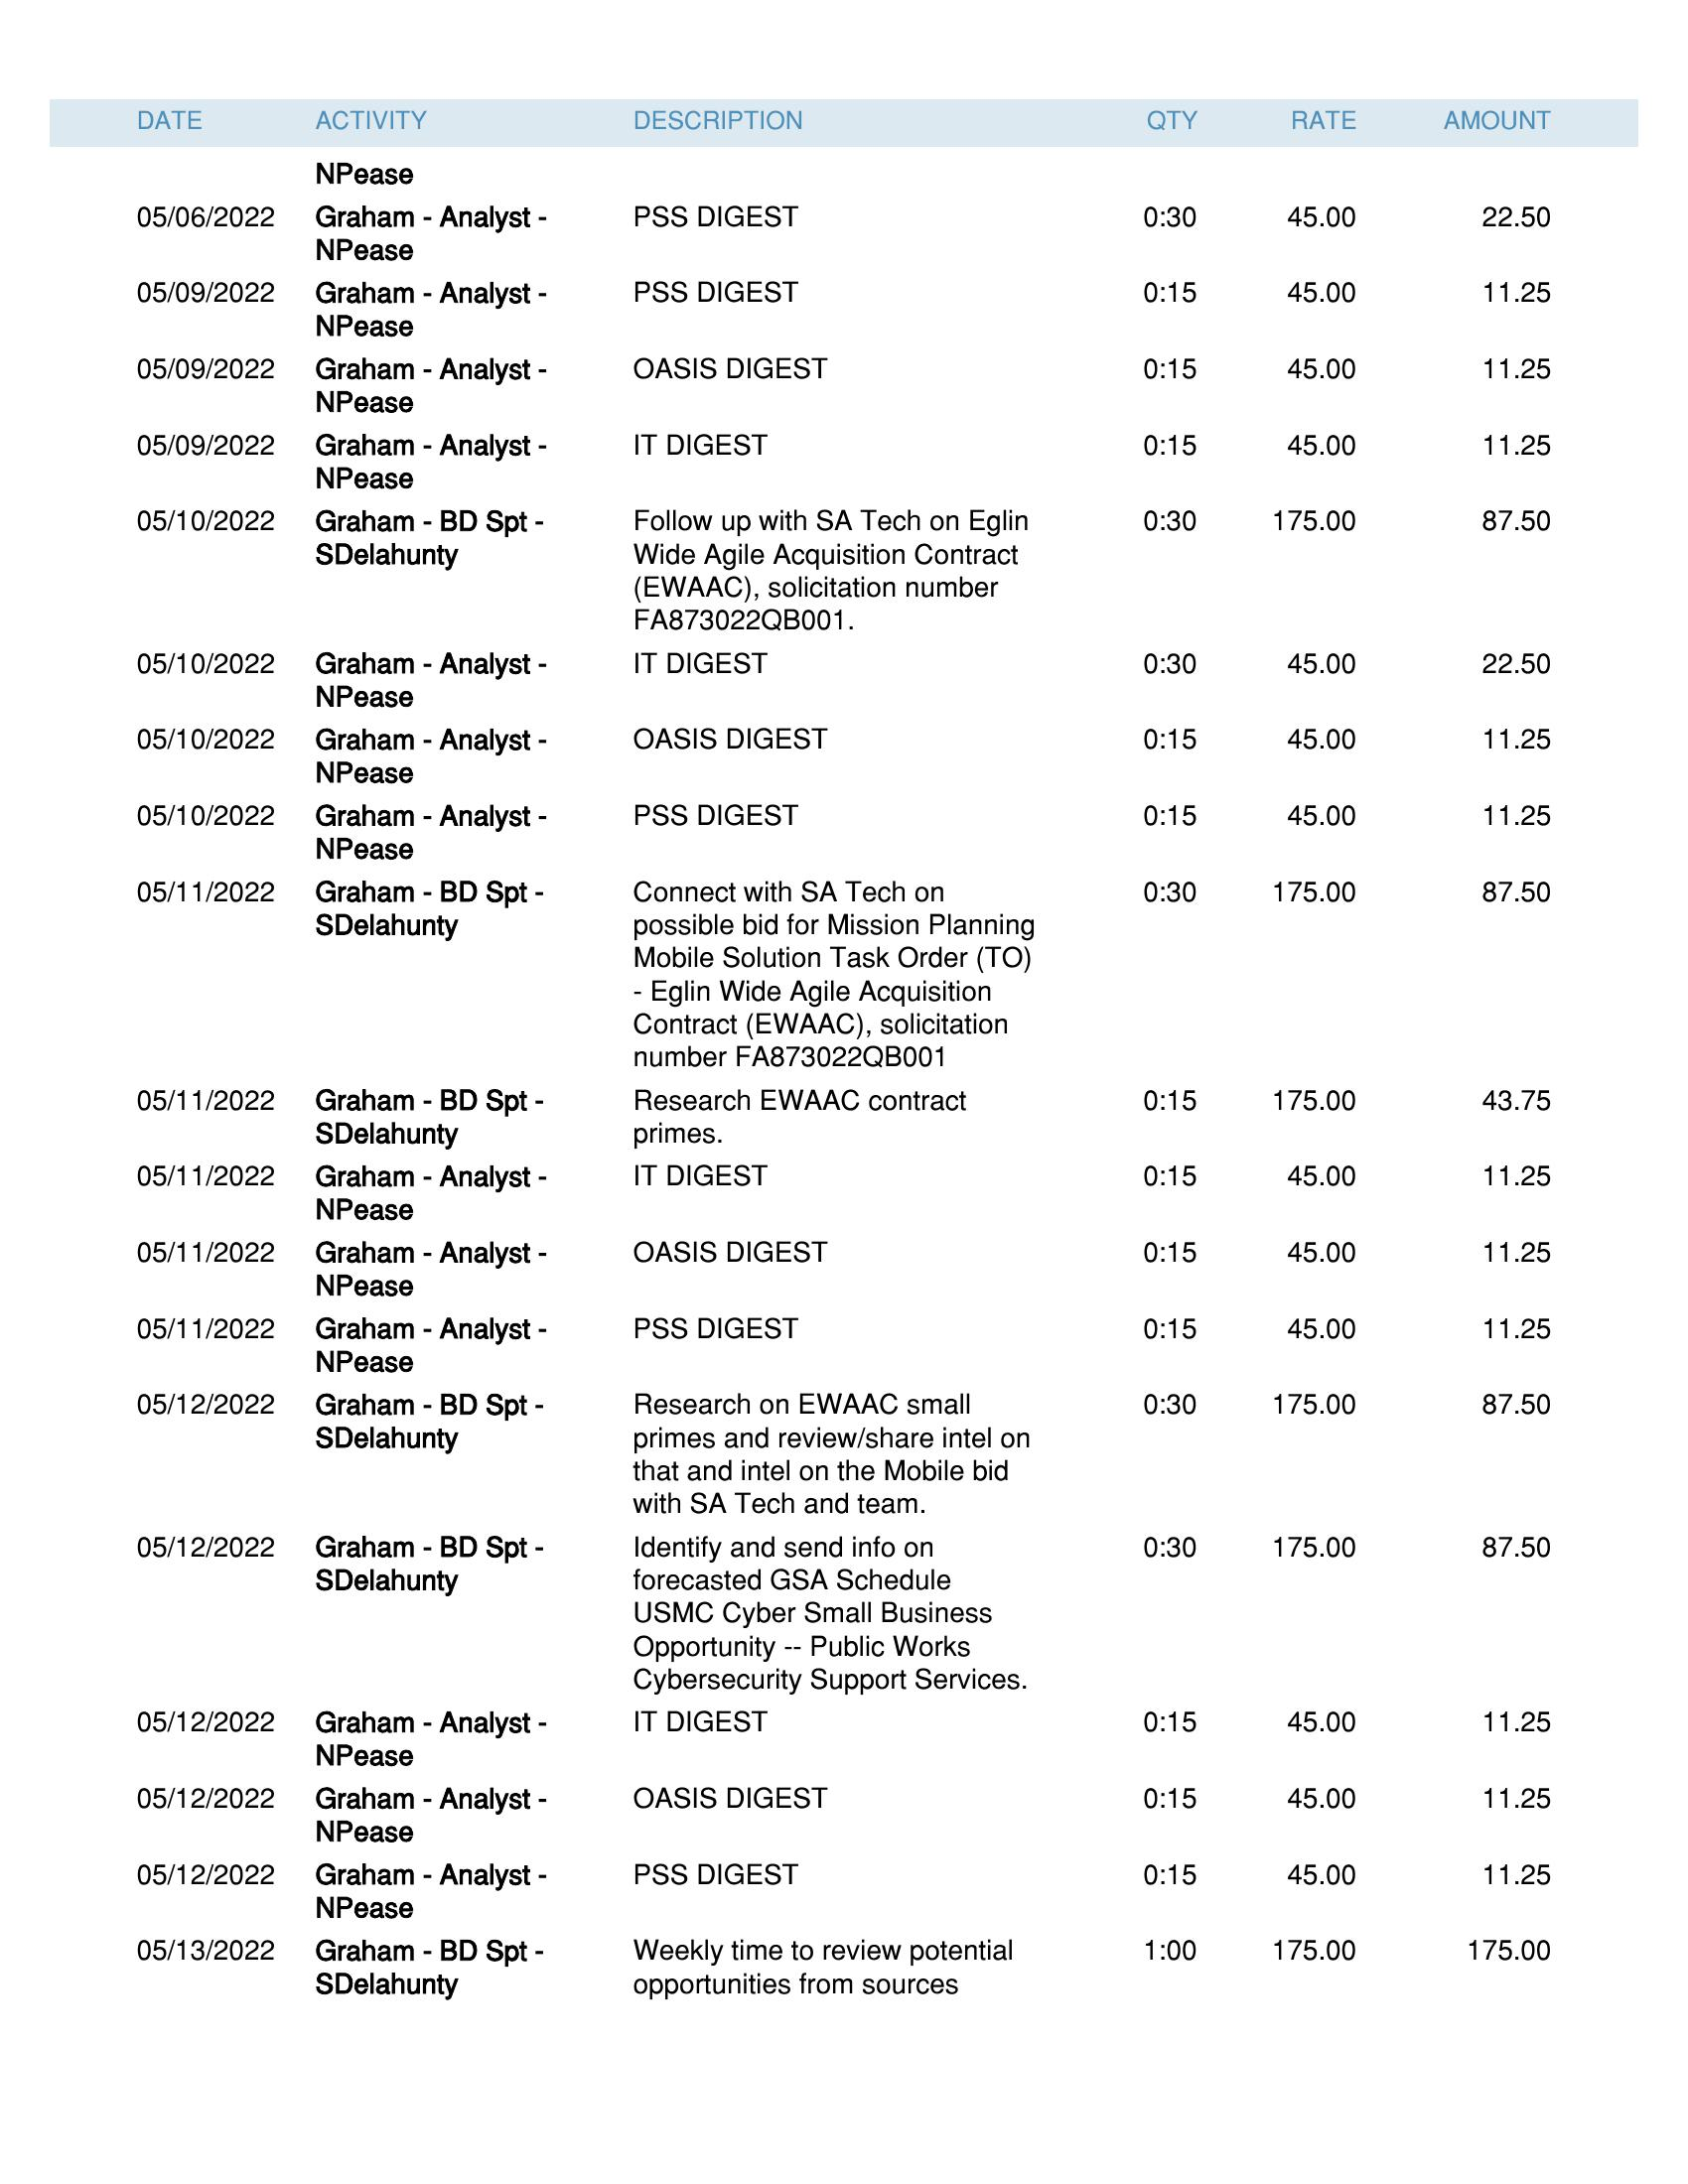table: (59, 76, 1638, 2037)
